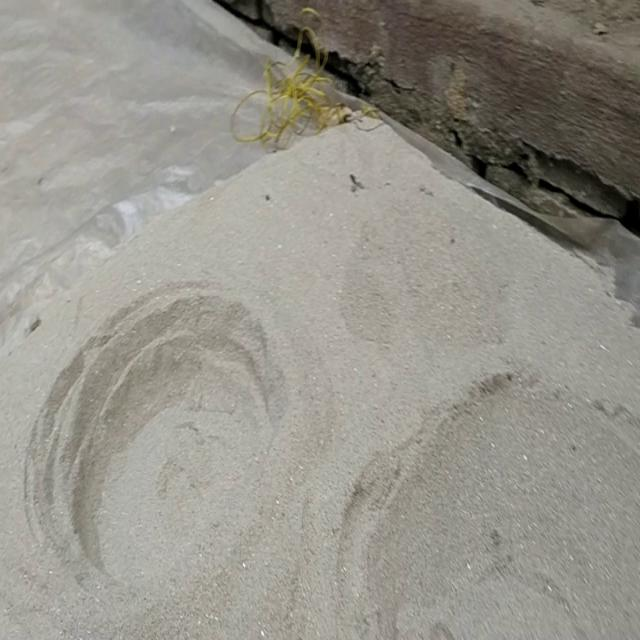C20: (41, 295, 275, 592)
